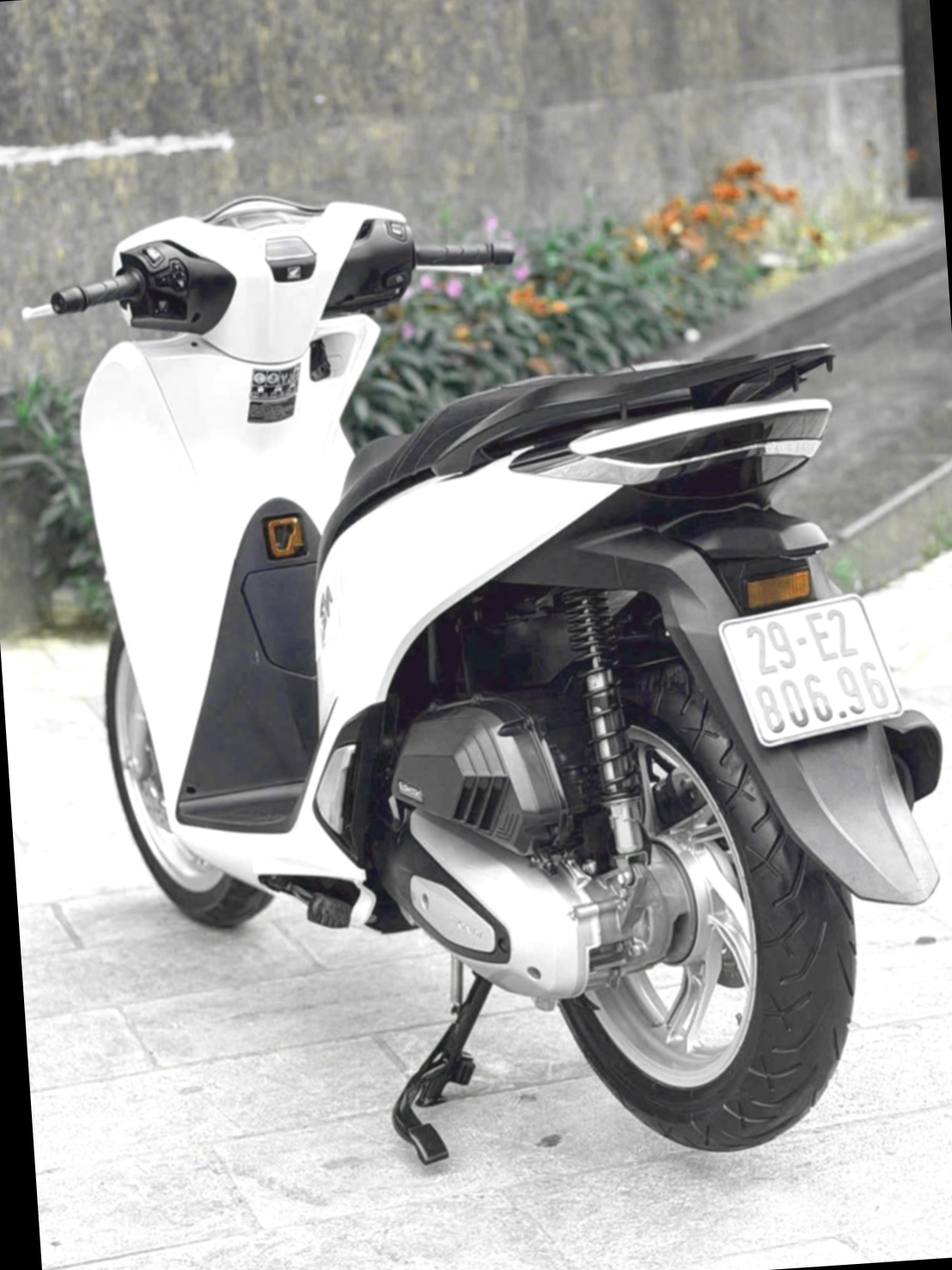Bien-so: (725, 584, 907, 754)
